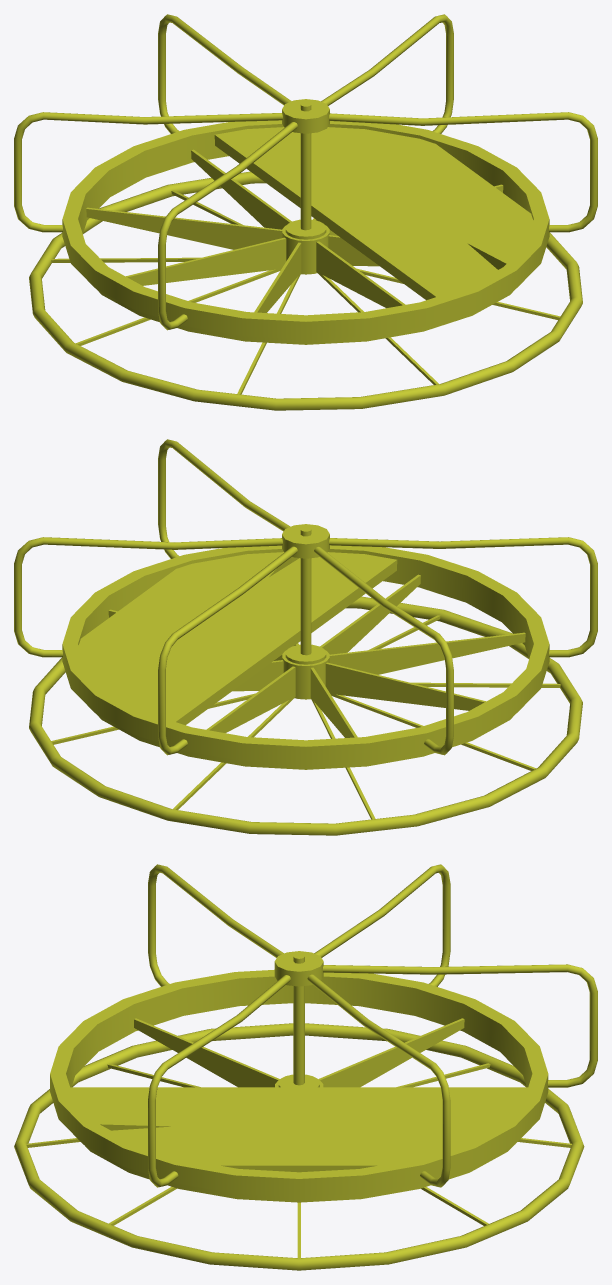
File: carousel.obj
3 views of the same model, one above another, from view 1: azimuth 30°, elevation 25°; view 2: azimuth 150°, elevation 25°; view 3: azimuth 270°, elevation 25° (orthographic). The views are drawn at different scales.
Parts seen in each view (by area): view 1: carousel_002, carousel_001; view 2: carousel_002, carousel_001; view 3: carousel_002, carousel_001.
Part boxes in pixels (x1,y1,x2,y2): carousel_002: [14, 14, 597, 344]; carousel_001: [29, 171, 582, 410]; carousel_002: [14, 439, 597, 769]; carousel_001: [29, 596, 582, 835]; carousel_002: [50, 864, 597, 1202]; carousel_001: [14, 1023, 584, 1270].
Size of the model in its own units: 2.05 by 0.7719 by 2.1.
